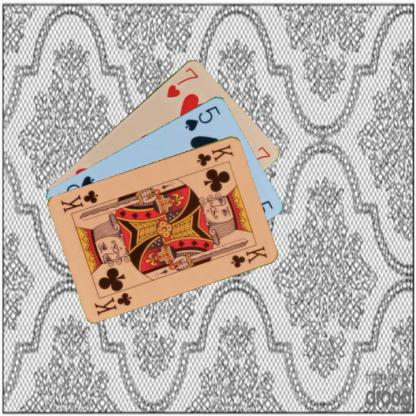5s: (182, 103, 222, 132)
7h: (163, 64, 200, 99)
Kc: (91, 289, 133, 317), (194, 142, 235, 168)
